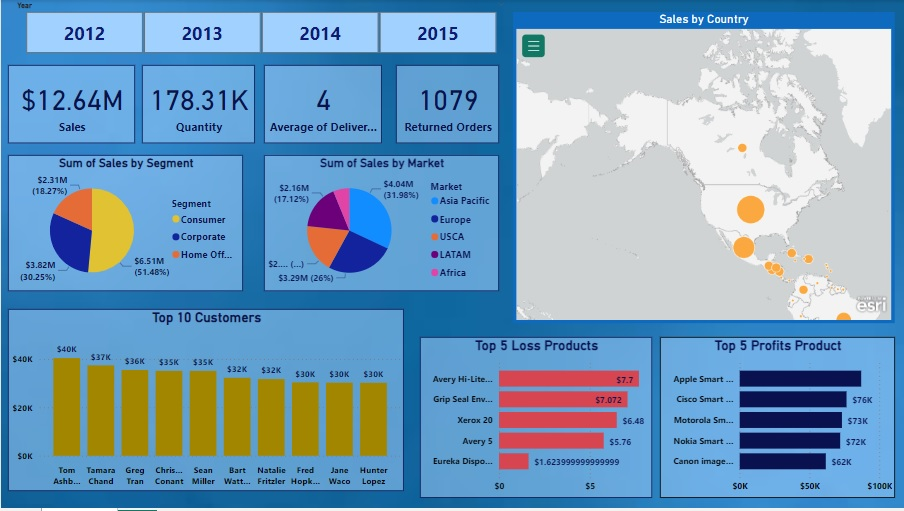

This screenshot's page, from the dashboard's own definition file:
{"tool":"powerbi","page":{"name":"Page 1","canvas":[1280,720],"ordinal":0},"visuals":[{"type":"card","fields":{"Values":["Sum(Orders.Sales)"]},"box":[9.9,92.1,180,110.6],"z":0},{"type":"card","fields":{"Values":["Sum(Orders.Quantity)"]},"box":[199.8,92.1,160.2,110.6],"z":1000},{"type":"card","fields":{"Values":["Avg(Orders.Delivery Days)"]},"box":[372.8,92.1,167.2,110.6],"z":2000},{"type":"slicer","fields":{"Values":["Orders.Year"]},"box":[9.9,0,715.7,82.2],"z":3000},{"type":"card","fields":{"Values":["Sum(Returns.Returned Orders)"]},"box":[559.8,92.1,146,110.6],"z":4000},{"type":"esriVisual","title":"Sales by Country","fields":{"Location":["Orders.Country"],"Size":["Sum(Orders.Sales)"]},"box":[725.7,17,541.4,440.8],"z":5000},{"type":"barChart","title":"Top 5 Profits Product","fields":{"Y":["Sum(Orders.Sales)"],"Category":["Orders.Product Name"]},"box":[934,477.6,333.1,228.2],"z":6000},{"type":"barChart","title":"Top 5 Loss Products","fields":{"Y":["Sum(Orders.Sales)"],"Category":["Orders.Product Name"]},"box":[593.9,477.6,328.8,228.2],"z":7000},{"type":"pieChart","fields":{"Category":["Orders.Segment"],"Y":["Sum(Orders.Sales)"]},"box":[9.9,219.7,333.1,192.8],"z":8000},{"type":"pieChart","fields":{"Category":["Orders.Market","Orders.Segment"],"Y":["Sum(Orders.Sales)"]},"box":[372.8,219.7,333.1,192.8],"z":9000},{"type":"columnChart","title":"Top 10 Customers","fields":{"Category":["Orders.Customer Name"],"Y":["Sum(Orders.Sales)"]},"box":[9.9,438,561.3,258],"z":10000}]}

Visuals, with their boxes in screenshot pixels (x1, y1, x2, y2), scaled from the page's 1280x720 canvas onto the 904x511 screenshot:
card - Sum(Orders.Sales): 7 65 134 144
card - Sum(Orders.Quantity): 141 65 254 144
card - Avg(Orders.Delivery Days): 263 65 381 144
slicer - Orders.Year: 7 0 512 58
card - Sum(Returns.Returned Orders): 395 65 498 144
"Sales by Country" esriVisual: 513 12 895 325
"Top 5 Profits Product" barChart: 660 339 895 501
"Top 5 Loss Products" barChart: 419 339 652 501
pieChart - Orders.Segment x Sum(Orders.Sales): 7 156 242 293
pieChart - Orders.Market x Orders.Segment: 263 156 499 293
"Top 10 Customers" columnChart: 7 311 403 494
